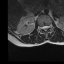CCS_normal: (44, 23, 46, 33)
LFS_normal: (48, 21, 51, 30)
LLS_normal: (46, 22, 48, 31)
RFS_normal: (39, 24, 42, 31)
RLS_normal: (42, 23, 44, 31)
